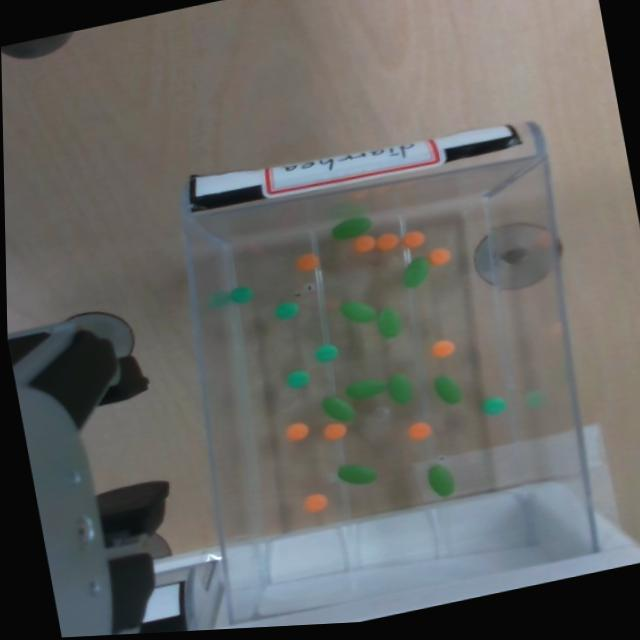famodine: (481, 395, 508, 418), (313, 343, 340, 365), (230, 284, 255, 306), (285, 369, 311, 390), (275, 300, 300, 321), (315, 344, 338, 362), (482, 397, 506, 414), (275, 302, 298, 319), (229, 287, 253, 303), (286, 371, 309, 387)
otillen_tab: (335, 459, 378, 490), (320, 391, 357, 427), (424, 461, 457, 501), (339, 296, 378, 329), (433, 372, 466, 409), (345, 375, 387, 402), (399, 256, 432, 289), (330, 216, 373, 241), (386, 372, 416, 407), (375, 306, 402, 340), (427, 464, 455, 496), (402, 256, 430, 287), (332, 217, 371, 239), (322, 396, 354, 422), (387, 374, 413, 404), (338, 464, 377, 484), (434, 376, 461, 404), (346, 380, 385, 399), (341, 301, 376, 322), (377, 308, 401, 338)
samsung_octylonium_tab: (429, 337, 456, 361), (375, 231, 401, 253), (303, 493, 328, 514), (285, 422, 309, 443), (324, 421, 348, 442), (352, 234, 375, 255), (409, 421, 432, 442), (401, 230, 425, 250), (296, 253, 319, 273), (428, 247, 452, 266), (407, 422, 432, 440), (285, 422, 308, 441), (322, 422, 346, 440), (304, 494, 328, 512), (351, 235, 375, 253), (401, 230, 425, 248), (295, 253, 318, 271), (428, 248, 451, 266), (375, 233, 399, 250), (432, 340, 455, 357)
